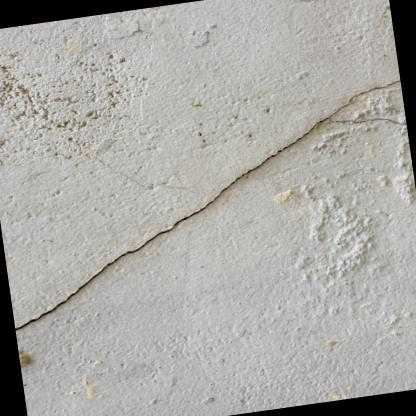crack: (14, 78, 406, 330)
